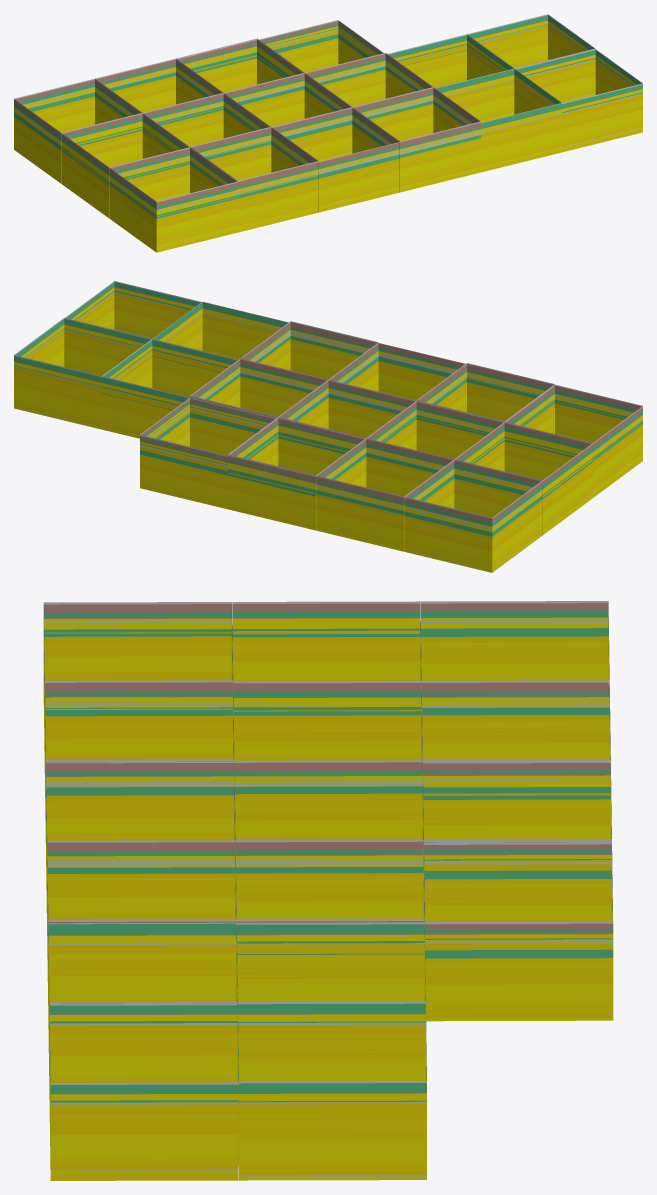
3 views of the same model, one above another, from view 1: azimuth 30°, elevation 25°; view 2: azimuth 150°, elevation 25°; view 3: azimuth 270°, elevation 25° (orthographic). The views are drawn at different scales.
Visible parts, largest first — view 1: mesh; view 2: mesh; view 3: mesh.
Boxes of the visible parts, <box> form: mesh: <box>14,14,642,252</box>; mesh: <box>14,281,642,572</box>; mesh: <box>43,601,613,1180</box>.
Size of what is drawn, in the model's own units: 982 by 99 by 495.
